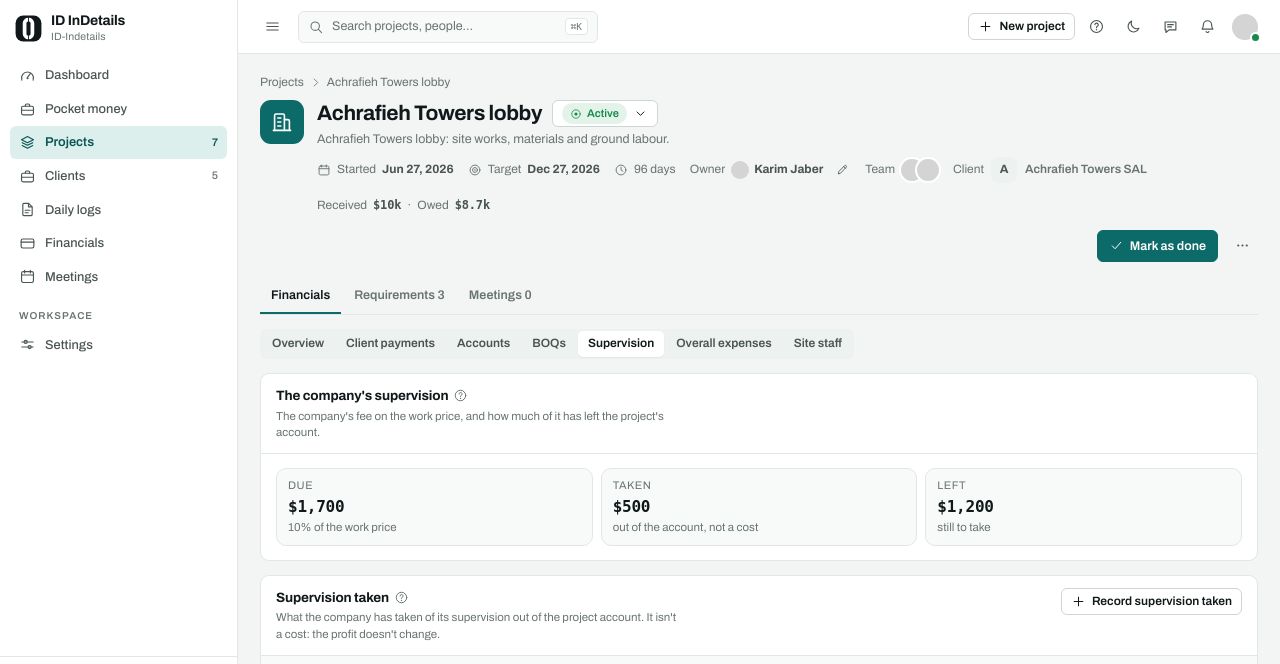
the parts of an Execution site's Financials tab › opens the one in the link, and a click on another puts it in the link
Click the tab "Client payments" at coordinates (391, 344), box [336,331,445,357]
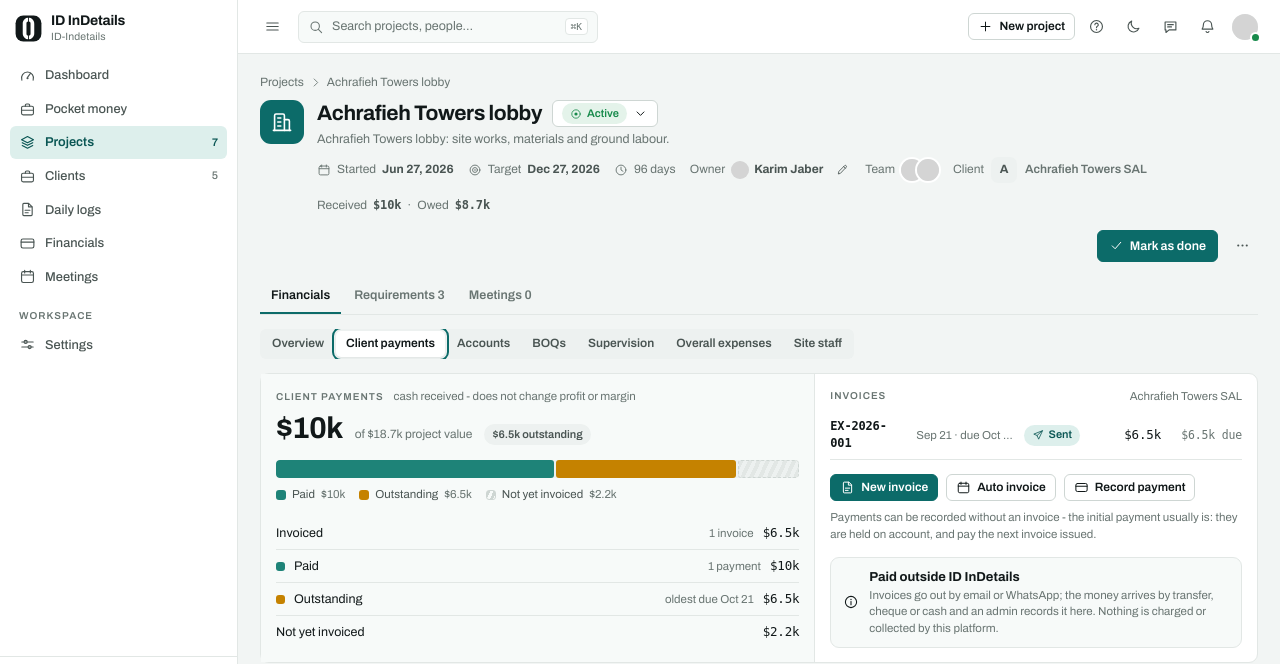
Now the element "Supervision taken" is gone
Click the tab "Overview" at coordinates (298, 344), box [262,331,334,357]
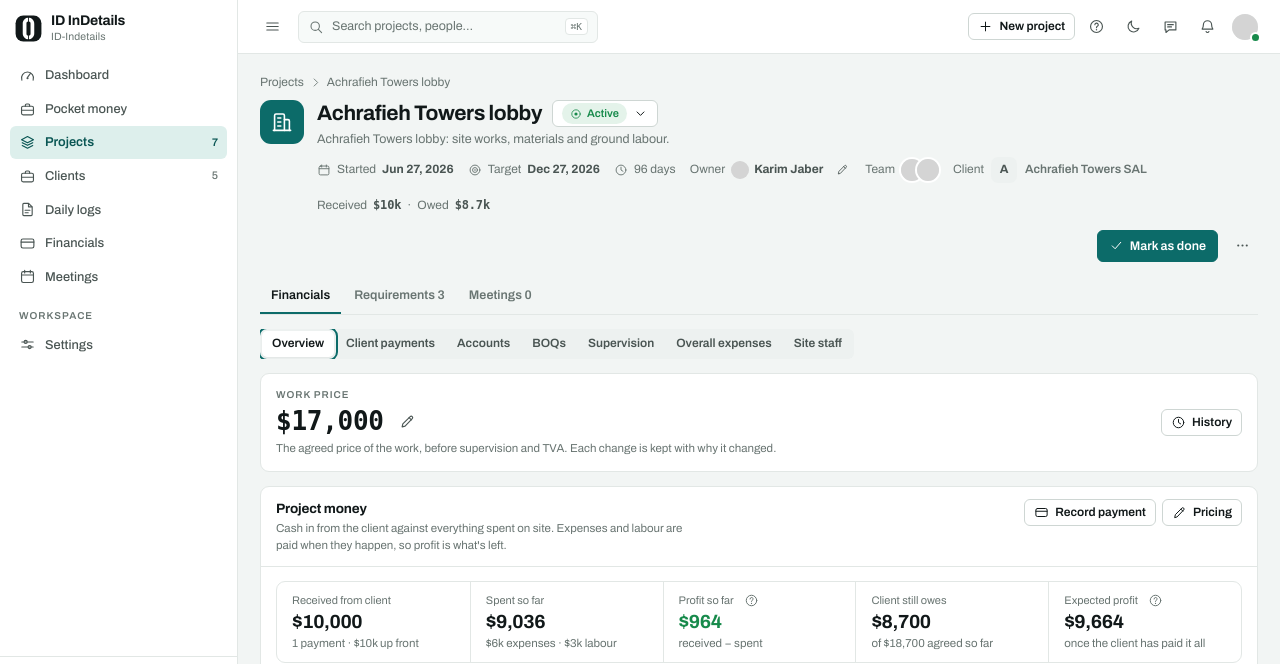
Now the text "Project money" is shown, box [276,501,367,516]
